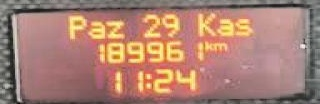1: (111, 69, 123, 93), (96, 41, 103, 62), (135, 67, 141, 91), (195, 40, 201, 61)
2: (151, 67, 173, 92), (141, 12, 160, 37)
4: (173, 67, 194, 91)
6: (164, 40, 183, 61)
8: (104, 41, 123, 62)
9: (161, 12, 180, 36), (144, 38, 163, 61), (124, 40, 143, 61)
X: (195, 10, 215, 36), (65, 14, 85, 38), (103, 19, 123, 38), (214, 16, 233, 36), (233, 16, 251, 35), (86, 19, 103, 38), (211, 40, 228, 51), (143, 71, 151, 88), (203, 39, 211, 50)
